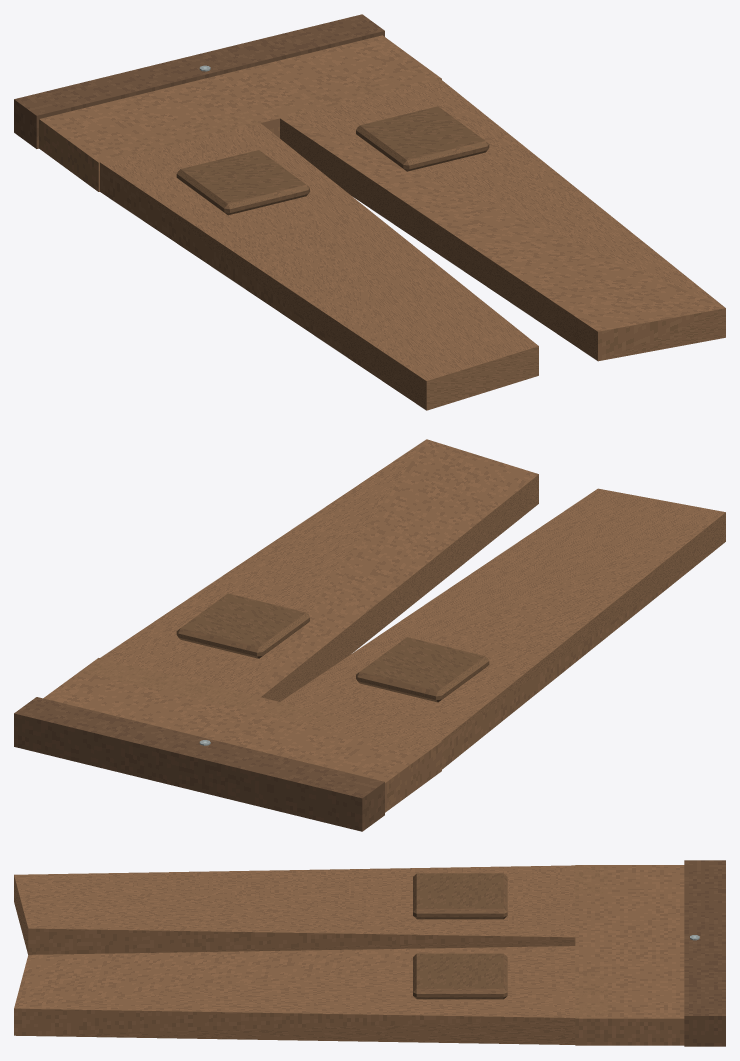
Rendered from pants_ski.glb.
The picture shows the model from 3 angles, top to bottom: view 1: azimuth 30°, elevation 25°; view 2: azimuth 150°, elevation 25°; view 3: azimuth 270°, elevation 25°; orthographic projection. The views are drawn at different scales.
Visible parts, largest first — view 1: block_leg -1, block_leg 1, block_seat, block_waistband, block_cargo pocket 1, block_cargo pocket -1; view 2: block_leg -1, block_leg 1, block_waistband, block_seat, block_cargo pocket -1, block_cargo pocket 1; view 3: block_leg 1, block_leg -1, block_seat, block_waistband, block_cargo pocket -1, block_cargo pocket 1.
Boxes of the visible parts, <box> form: block_leg -1: <box>90,111,538,410</box>; block_leg 1: <box>266,67,725,361</box>; block_seat: <box>39,35,441,191</box>; block_waistband: <box>14,14,384,148</box>; block_cargo pocket 1: <box>356,106,489,171</box>; block_cargo pocket -1: <box>176,150,309,215</box>; block_leg -1: <box>262,488,725,769</box>; block_leg 1: <box>80,439,538,709</box>; block_waistband: <box>14,697,384,831</box>; block_seat: <box>43,658,441,812</box>; block_cargo pocket -1: <box>356,637,489,702</box>; block_cargo pocket 1: <box>176,593,309,658</box>; block_leg 1: <box>14,946,610,1044</box>; block_leg -1: <box>14,865,609,954</box>; block_seat: <box>575,865,684,1045</box>; block_waistband: <box>684,860,725,1046</box>; block_cargo pocket -1: <box>413,873,507,919</box>; block_cargo pocket 1: <box>413,953,507,999</box>.
Size of the model in its own units: 0.284 by 0.032 by 0.548.
1 material, 1 textured.
